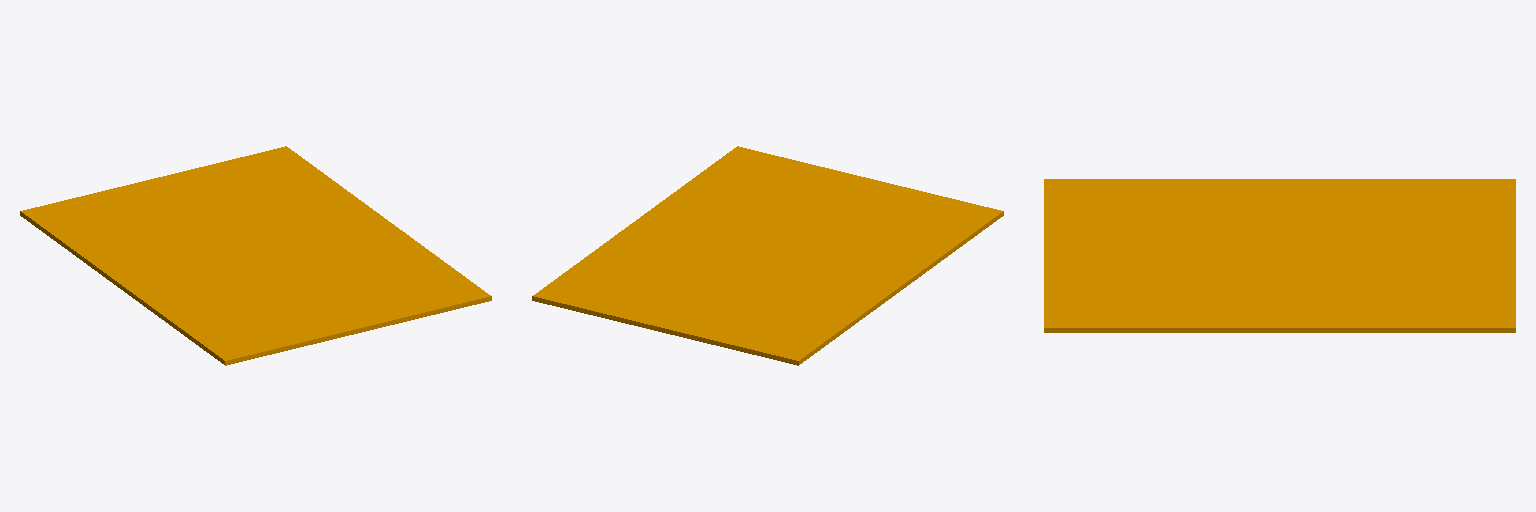
robot.urdf — calibration_object:
<robot name="calibration_object">

  <link name="checkerboard">
    <inertial>
      <origin xyz="0 0 0.2025" />
      <mass value="0.25" />
      <inertia  ixx="0.001" ixy="0.0"  ixz="0.0"  iyy="0.001"  iyz="0.0"  izz="0.001" />
    </inertial>
    <visual>
      <origin xyz="0 0 0.2025" />
      <geometry>
        <box size="0.3 0.4 0.005"/>
      </geometry>
    </visual>
    <collision>
      <origin xyz="0 0 0.2025" />
      <geometry>
        <box size="0.3 0.4 0.05"/>
      </geometry>
    </collision>
  </link>

  <gazebo reference="checkerboard">
    <material>Gazebo/Red</material>
  </gazebo>

  <joint name="frustum1_joint" type="fixed" >
    <parent link="checkerboard" />
    <child link="frustum1" />
    <origin xyz="0 0 0" rpy="0 0 0" />
  </joint>

  <link name="frustum1">
    <inertial>
      <origin xyz="0 -0.2 0" />
      <mass value="0.35" />
      <inertia  ixx="0.001" ixy="0.0"  ixz="0.0"  iyy="0.001"  iyz="0.0"  izz="0.001" />
    </inertial>
    <visual>
      <origin xyz="0 -0.2 0" />
      <geometry>
        <mesh filename="[local-path]/Blender/stl/unit_frustum.stl" scale="0.1 0.1 0.2"/>
      </geometry>
    </visual>
    <collision>
      <origin xyz="0 -0.2 0" />
      <geometry>
        <mesh filename="[local-path]/Blender/stl/unit_frustum.stl" scale="0.1 0.1 0.2"/>
      </geometry>
    </collision>
  </link>

  <gazebo reference="frustum1">
    <material>Gazebo/Blue</material>
  </gazebo>

  <joint name="frustum2_joint" type="fixed" >
    <parent link="checkerboard" />
    <child link="frustum2" />
    <origin xyz="0 0 0" rpy="0 0 0" />
  </joint>

  <link name="frustum2">
    <inertial>
      <origin xyz="0 0.2  0"/>
      <mass value="0.35" />
      <inertia  ixx="0.001" ixy="0.0"  ixz="0.0"  iyy="0.001"  iyz="0.0"  izz="0.001" />
    </inertial>
    <visual>
      <origin xyz="0 0.2 0"/>
      <geometry>
        <mesh filename="[local-path]/Blender/stl/unit_frustum.stl" scale="0.1 0.1 0.2"/>
      </geometry>
    </visual>
    <collision>
      <origin xyz="0 0.2 0"/>
      <geometry>
        <mesh filename="[local-path]/Blender/stl/unit_frustum.stl" scale="0.1 0.1 0.2"/>
      </geometry>
    </collision>
  </link>

  <gazebo reference="frustum2">
    <material>Gazebo/Green</material>
  </gazebo>

</robot>

--- Render facts (derived) ---
The picture shows the robot from 3 angles, left to right: view 1: azimuth 30°, elevation 25°; view 2: azimuth 150°, elevation 25°; view 3: azimuth 270°, elevation 25°; orthographic projection.
Robot: calibration_object — 3 links, 2 joints (2 fixed); root link checkerboard; default pose: every joint at zero.
Links seen in each view (by area): view 1: checkerboard; view 2: checkerboard; view 3: checkerboard.
Boxes of the visible links, x1,y1,x2,y2 form: checkerboard: (20, 146, 491, 365); checkerboard: (532, 146, 1003, 365); checkerboard: (1044, 179, 1515, 332).
Bounding box of the posed robot: 0.3 × 0.4 × 0.005 m (x, y, z).
Geometry: only primitive shapes (box / cylinder / sphere) drawn; not drawn: 2 mesh visuals (reference in a form the renderer does not follow).